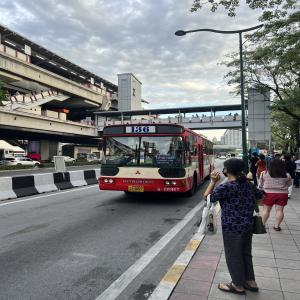BMTA-bus: (98, 124, 214, 196)
Bus Line Number: (126, 125, 156, 132)
Bus Side Number: (156, 186, 181, 193)
Destination Sign: (154, 155, 176, 163)
